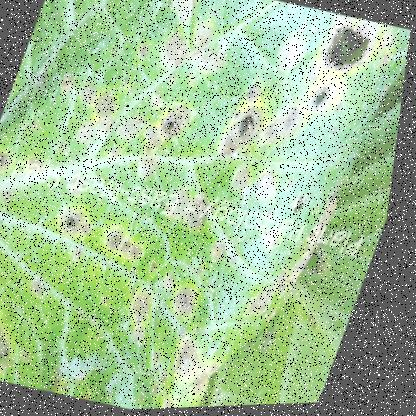AlternariaBrassicicola: (96, 221, 160, 275), (150, 95, 203, 154), (48, 202, 107, 253), (149, 29, 199, 80), (129, 286, 168, 337), (173, 283, 214, 325), (68, 70, 105, 114), (89, 86, 130, 125), (230, 163, 263, 202), (132, 155, 166, 186), (0, 140, 25, 181)
